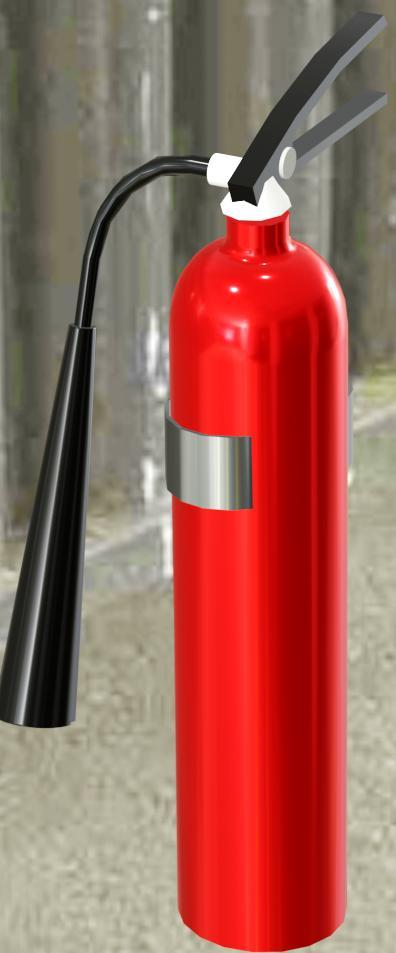Fire Extinguisher: (8, 15, 396, 915)
